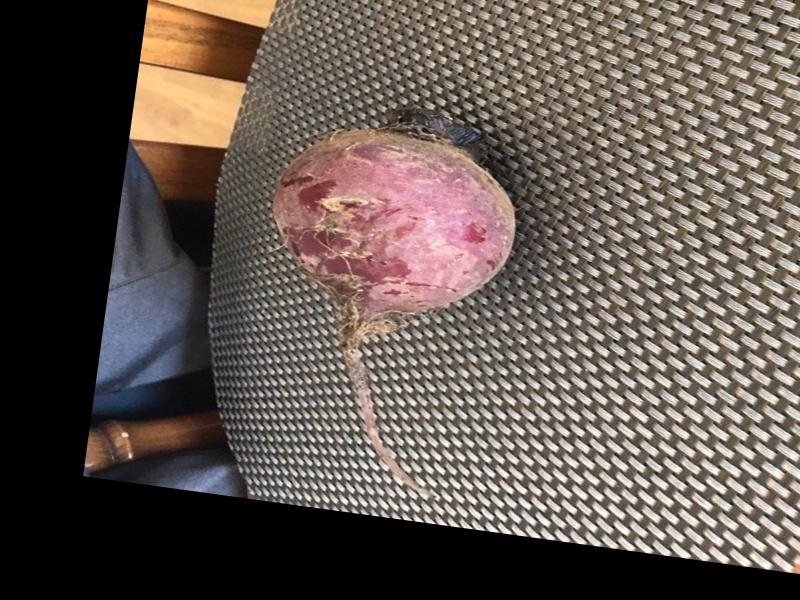Beet: (234, 86, 528, 497)
